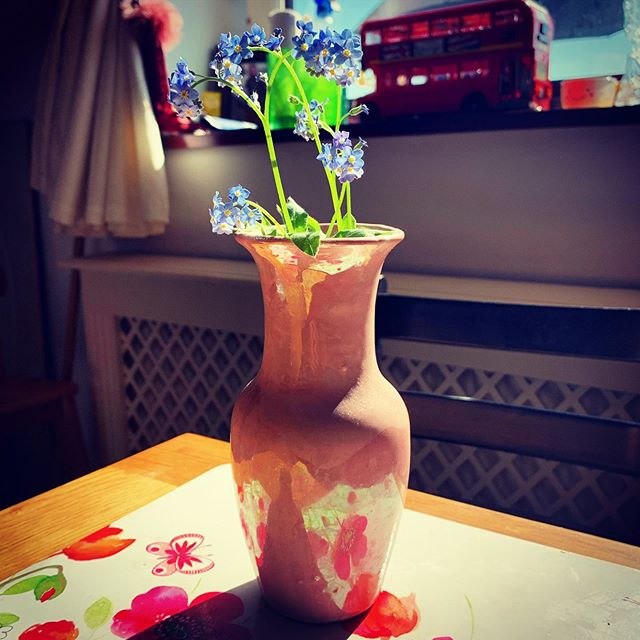flowers: (160, 25, 397, 241)
